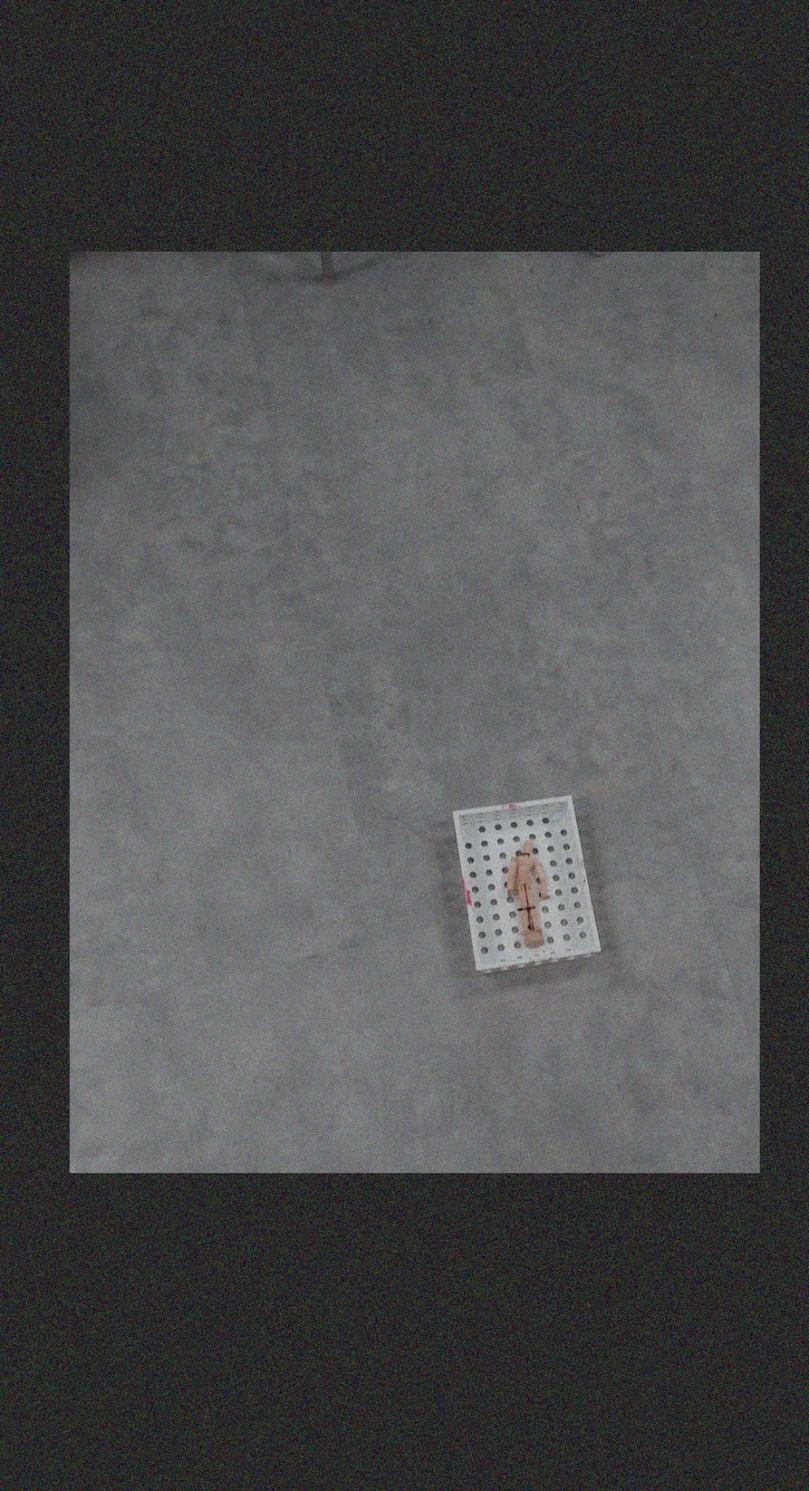basket: (450, 793, 604, 978)
mannequin: (503, 838, 552, 951)
